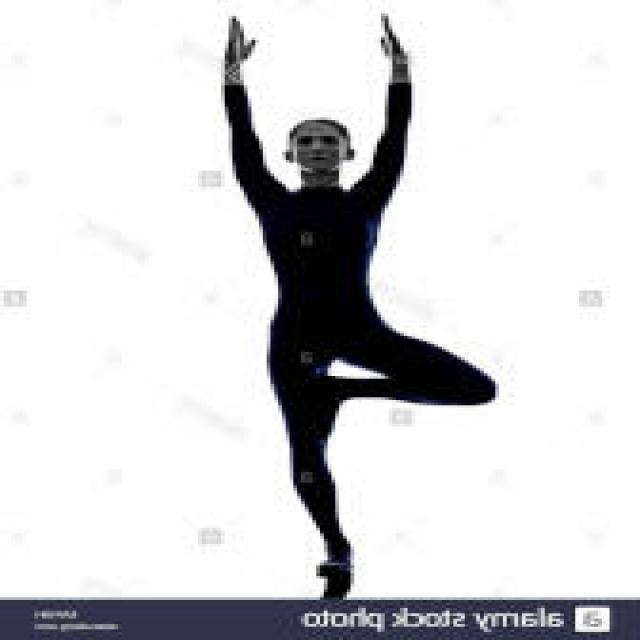yoga-pose tree: (188, 7, 502, 594)
